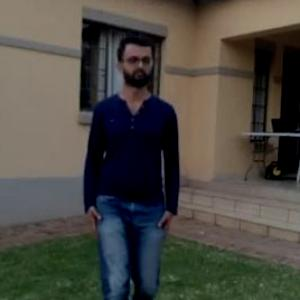follow: (82, 28, 181, 299)
